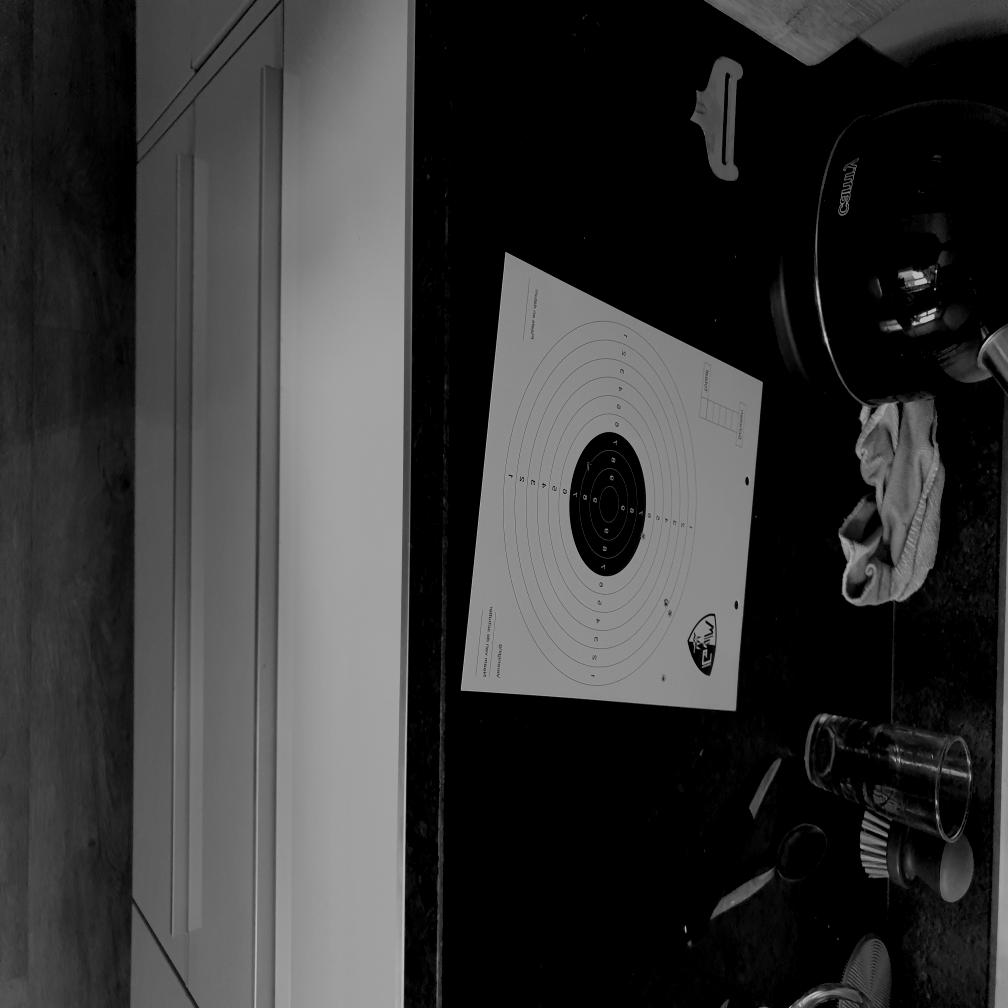0: (661, 674, 666, 682)
1: (668, 609, 672, 617)
2: (664, 598, 669, 607)
7: (640, 532, 646, 540)
8: (587, 459, 592, 471)
Target: (500, 317, 697, 687)
black_contour: (569, 431, 646, 575)
